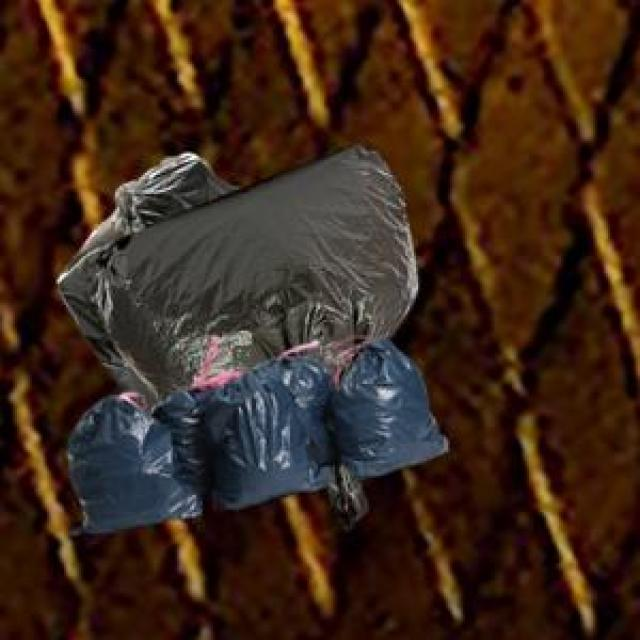Trashbag: (180, 355, 338, 510), (303, 330, 452, 487), (58, 391, 199, 548)
